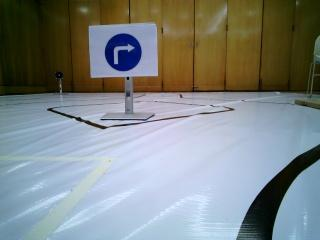right: (90, 24, 162, 77)
